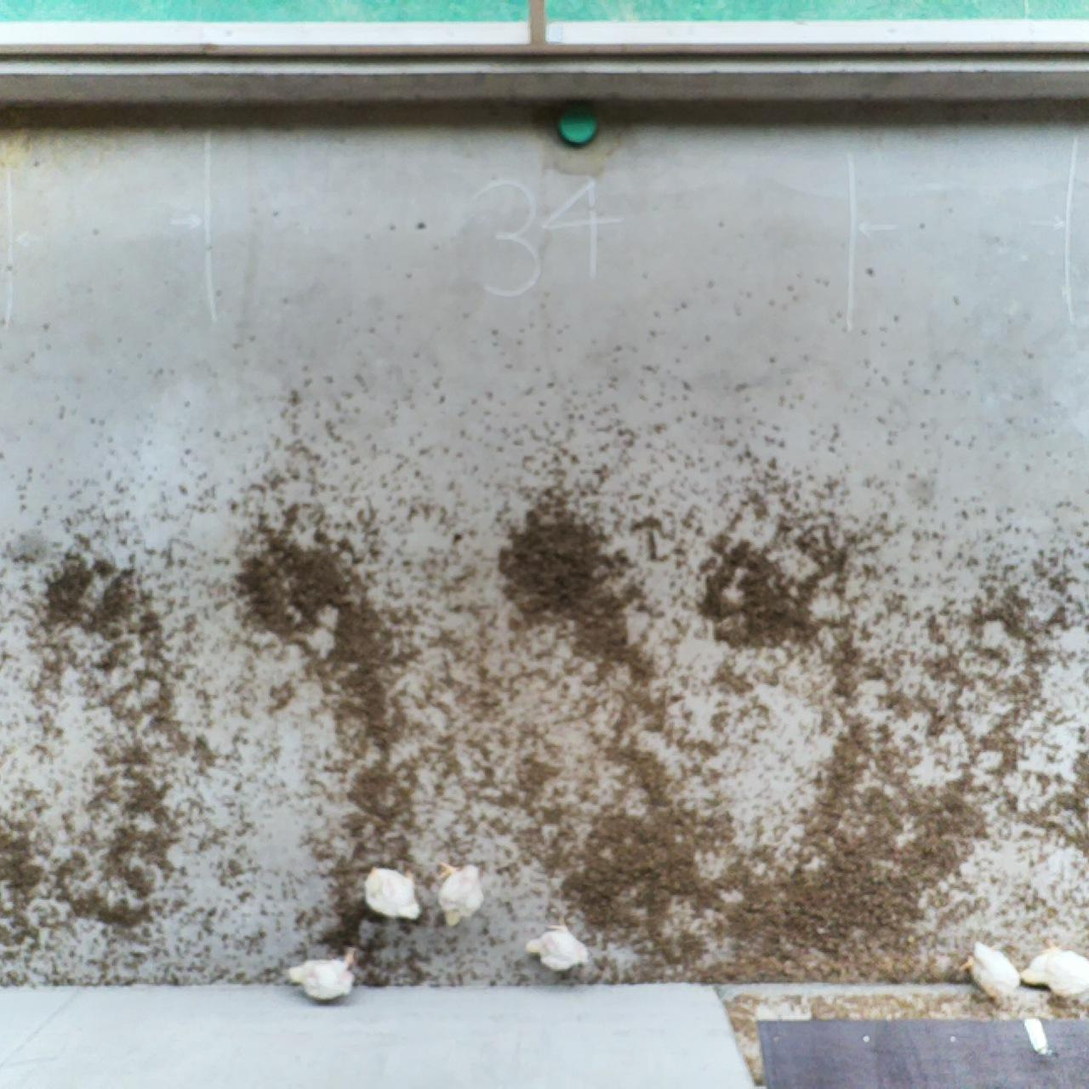chicken: (956, 937, 1024, 1011), (1018, 934, 1089, 1000), (284, 944, 362, 1003), (522, 911, 589, 977), (432, 857, 488, 928), (362, 861, 425, 924)
